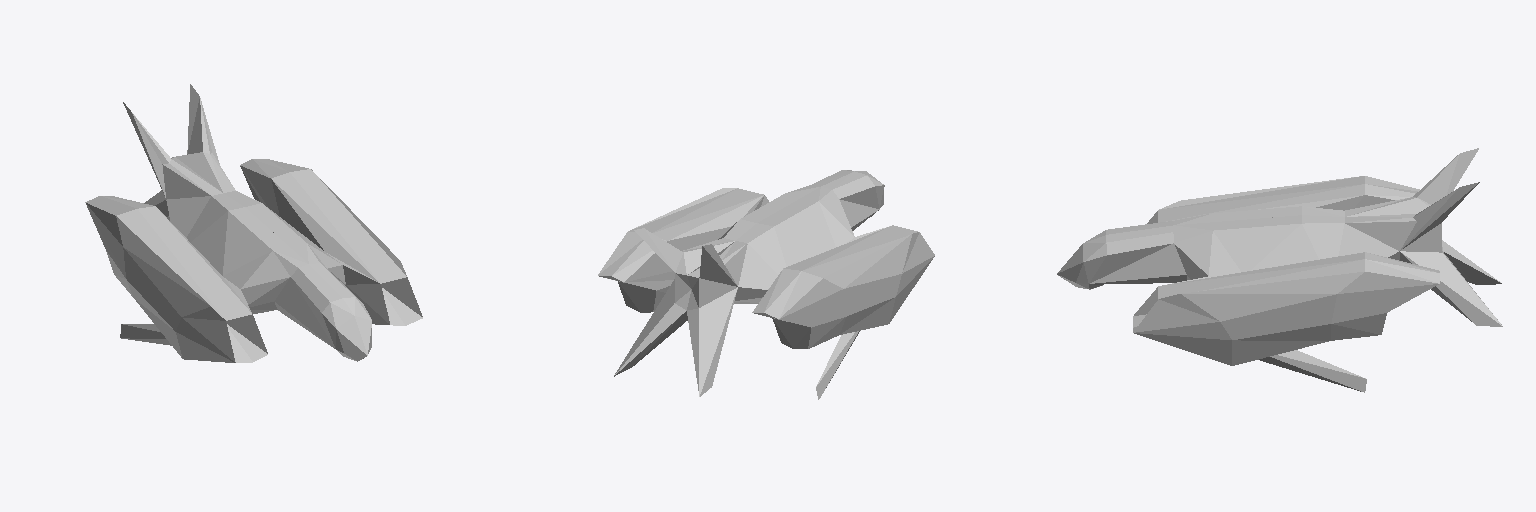
The model's file is Mid Poly.obj.
3 renders of one model, left to right at view 1: azimuth 30°, elevation 25°; view 2: azimuth 150°, elevation 25°; view 3: azimuth 270°, elevation 25°, orthographic.
Visible parts, largest first — view 1: detail1_detail1-geometry; view 2: detail1_detail1-geometry; view 3: detail1_detail1-geometry.
Part boxes in pixels (x1,y1,x2,y2): detail1_detail1-geometry: (85,84,422,362); detail1_detail1-geometry: (598,170,934,399); detail1_detail1-geometry: (1057,148,1502,392).
Size of the model in its own units: 15.26 by 12.8 by 28.34.